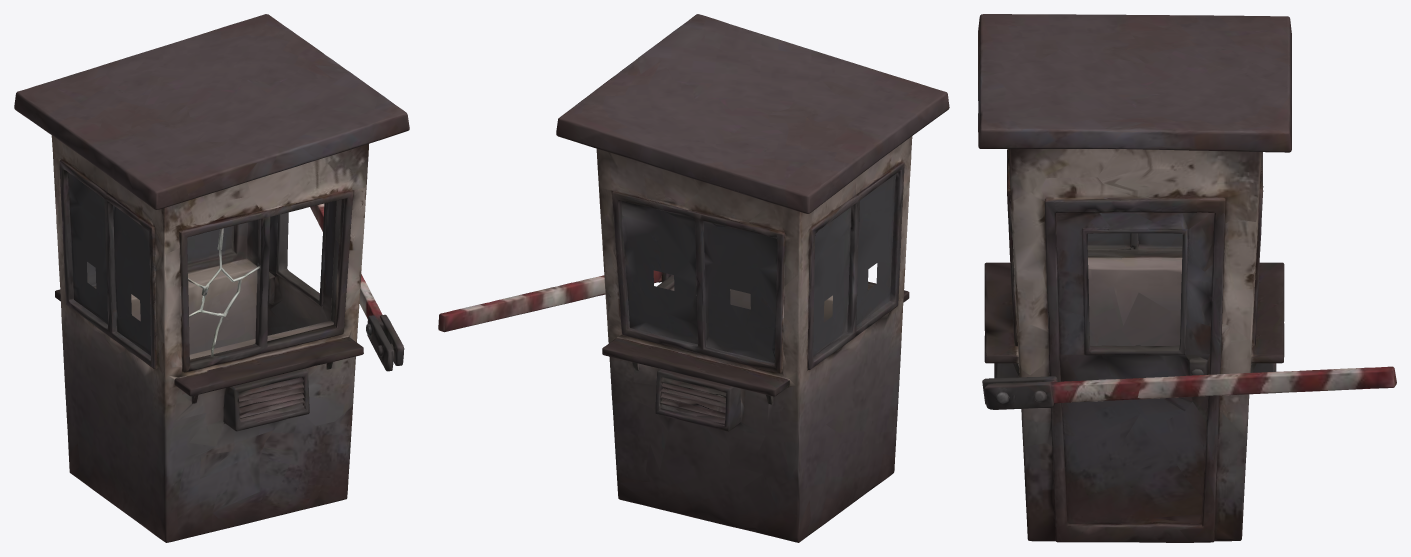
The model's file is prison_guard_booth_c_idle.glb.
The picture shows the model from 3 angles, left to right: view 1: azimuth 30°, elevation 25°; view 2: azimuth 150°, elevation 25°; view 3: azimuth 270°, elevation 25°; orthographic projection. The views are drawn at different scales.
Visible parts, largest first — view 1: tripo_node_8f8ed52b-b851-4996-b145-bbdd2fa95927; view 2: tripo_node_8f8ed52b-b851-4996-b145-bbdd2fa95927; view 3: tripo_node_8f8ed52b-b851-4996-b145-bbdd2fa95927.
Part boxes in pixels (x1,y1,x2,y2): tripo_node_8f8ed52b-b851-4996-b145-bbdd2fa95927: (14, 14, 409, 542); tripo_node_8f8ed52b-b851-4996-b145-bbdd2fa95927: (438, 14, 949, 542); tripo_node_8f8ed52b-b851-4996-b145-bbdd2fa95927: (978, 14, 1396, 542).
Bounding box in the file's own units: 2.61 × 3 × 2.63.
Materials: 1 (1 with a texture image).
